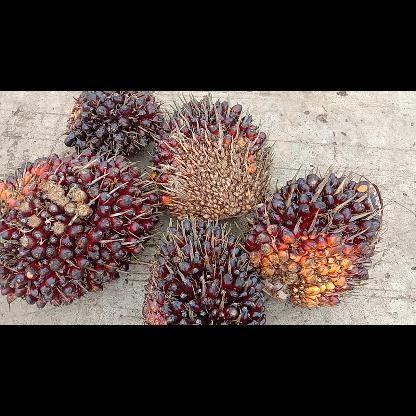TBS mentah: (0, 149, 163, 309), (245, 166, 385, 306), (147, 91, 273, 221), (143, 216, 265, 324), (64, 90, 165, 156)
